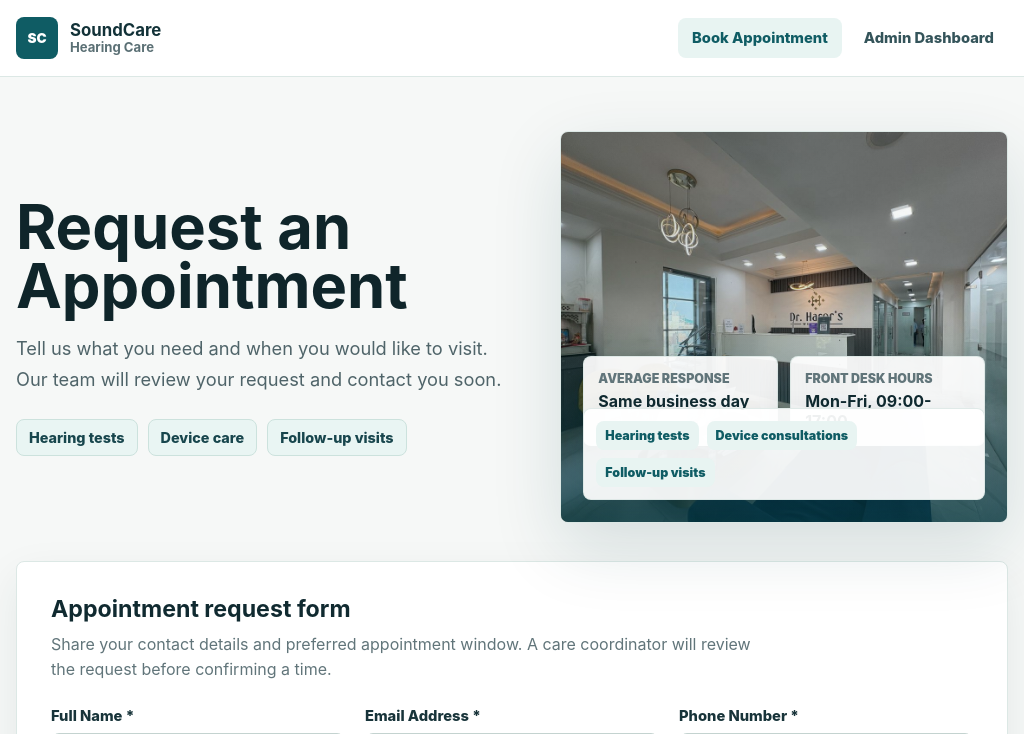
Test: AppShell › switches to the admin dashboard view
What coordinates should you click on to do the following:
click the button "Admin Dashboard"
I would click on:
 (929, 38)
Its box is [850, 18, 1008, 58].
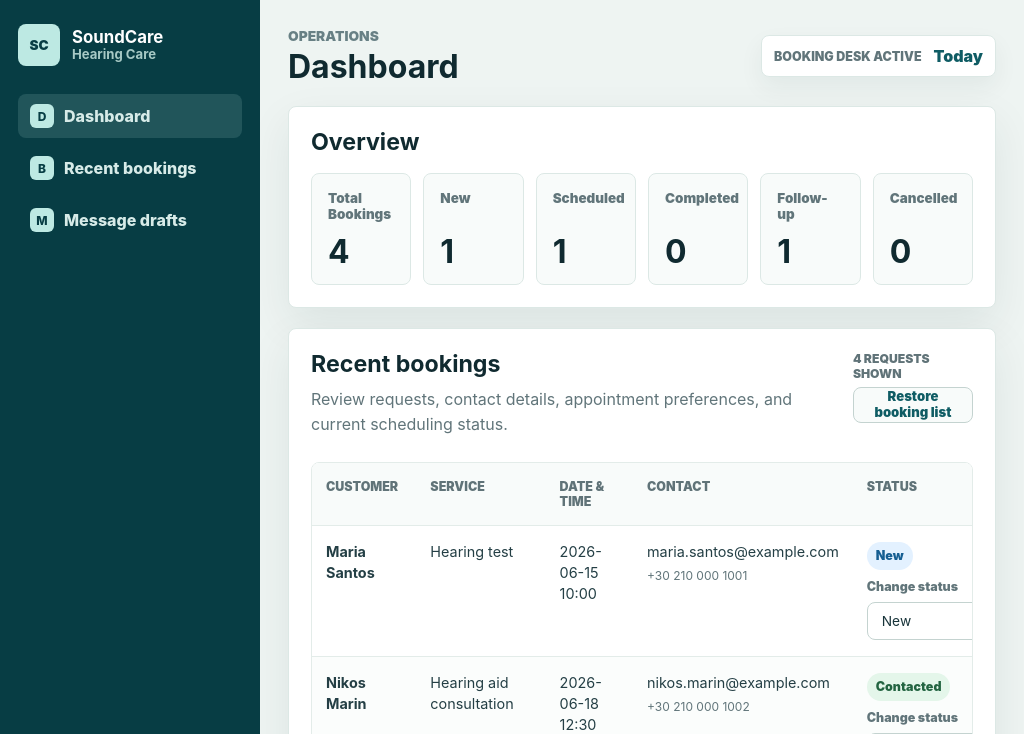
expect the heading "Dashboard" is shown: met, box [288, 49, 459, 84]
expect the heading "Recent bookings" is shown: met, box [311, 350, 500, 378]
